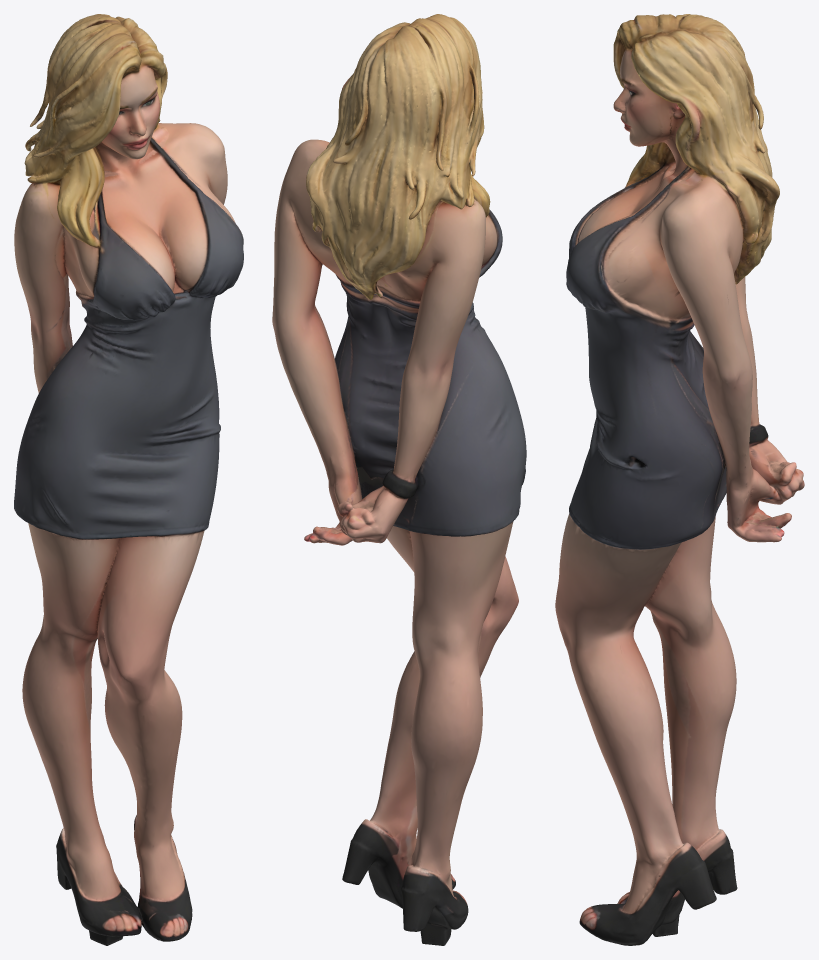
File: nicole.glb
The picture shows the model from 3 angles, left to right: view 1: azimuth 30°, elevation 25°; view 2: azimuth 150°, elevation 25°; view 3: azimuth 270°, elevation 25°; orthographic projection.
Visible parts, largest first — view 1: Mesh_0; view 2: Mesh_0; view 3: Mesh_0.
Part boxes in pixels (<box>): Mesh_0: <box>14,14,243,945</box>; Mesh_0: <box>272,14,526,945</box>; Mesh_0: <box>555,14,804,945</box>.
Bounding box in the file's own units: 0.467 × 1.9 × 0.467.
1 material, 1 textured.
